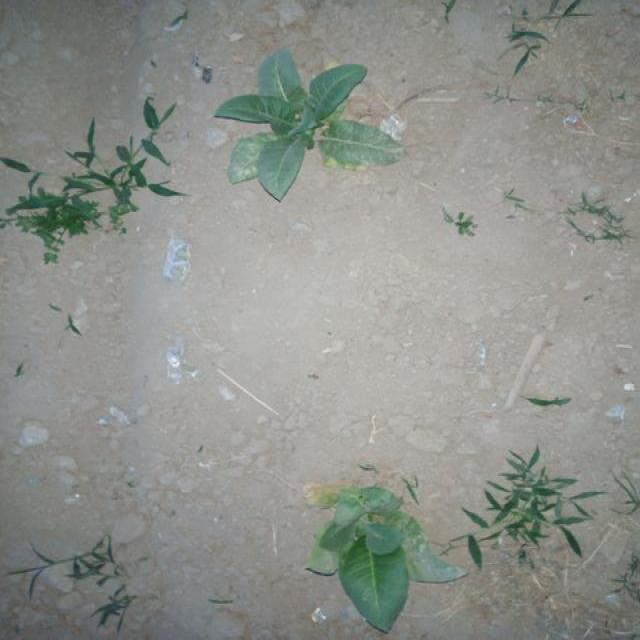crop: (309, 474, 454, 640), (225, 52, 399, 175)
